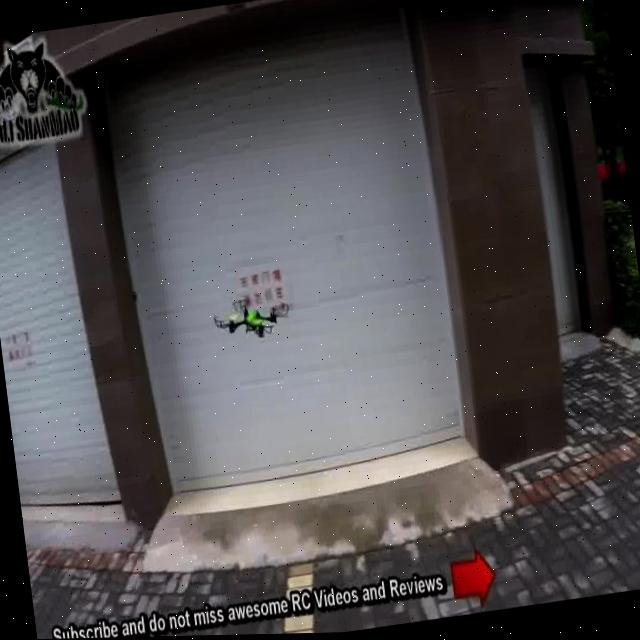drone: (208, 287, 292, 351)
